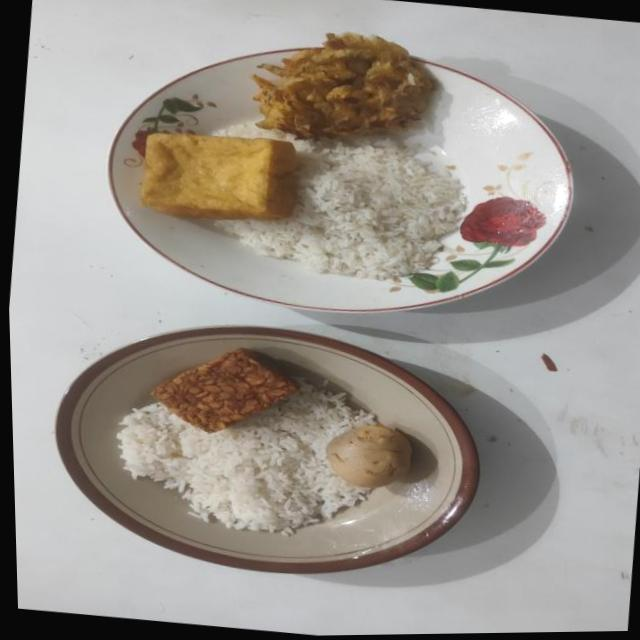nasi_putih: (117, 378, 376, 536), (216, 137, 465, 280)
tahu_goreng: (140, 133, 299, 220)
tempe_goreng: (152, 348, 298, 432)
